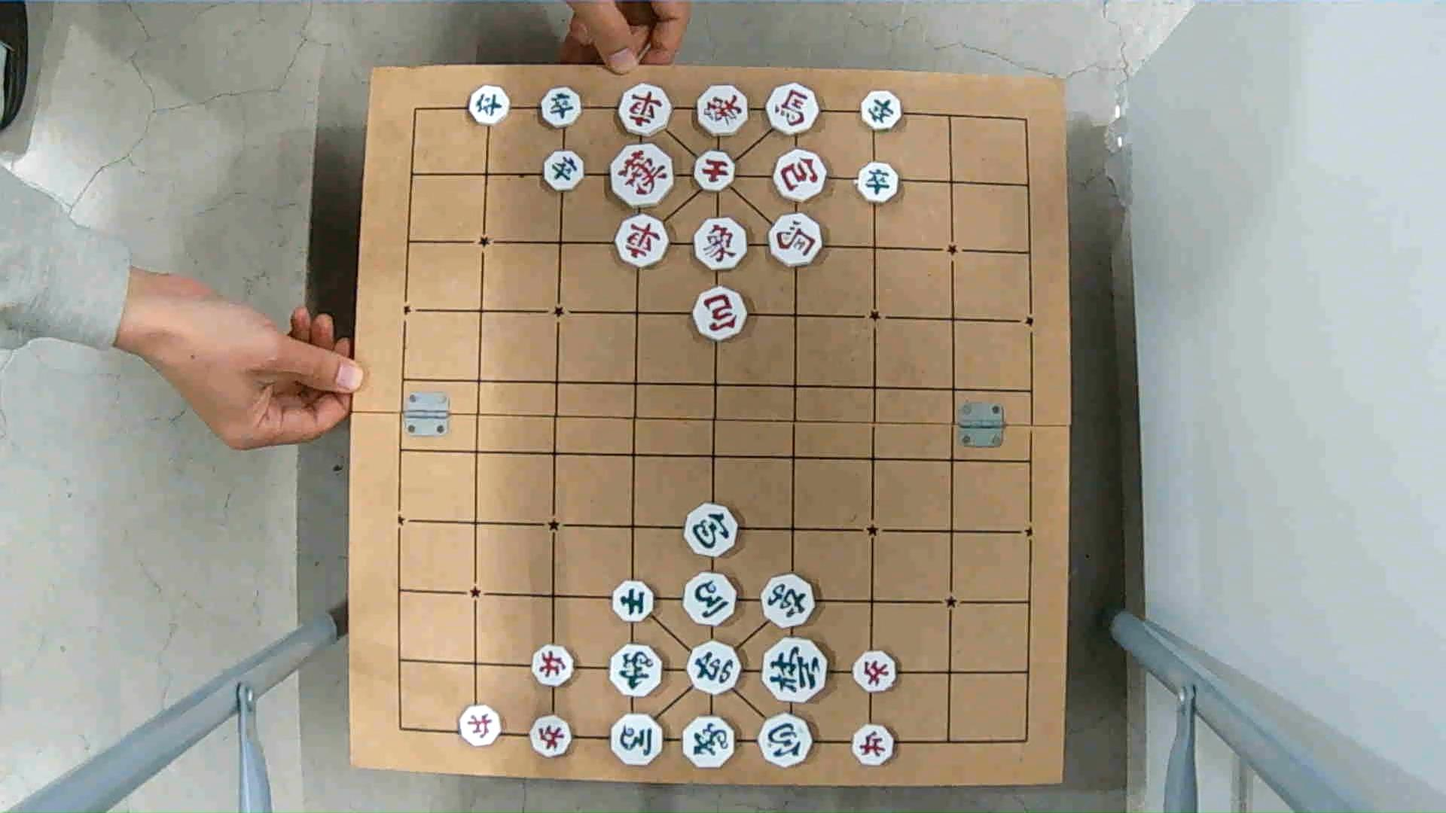cha_green: (763, 575, 820, 626), (685, 644, 741, 693)
cha_red: (613, 214, 673, 271), (620, 89, 673, 137)
jol_green: (536, 87, 580, 126), (857, 164, 902, 202), (542, 153, 585, 191), (860, 91, 902, 129), (470, 87, 513, 123)
jol_red: (850, 648, 896, 696), (853, 724, 898, 763), (534, 643, 575, 685), (458, 706, 502, 745), (532, 715, 572, 755)
ma_green: (682, 573, 738, 624), (612, 716, 668, 766)
ma_red: (767, 85, 822, 134), (771, 215, 826, 264)
po_green: (681, 501, 740, 557), (758, 714, 813, 765)
po_red: (691, 291, 749, 341), (775, 153, 829, 200)
sa_green: (613, 582, 656, 624)
sa_red: (693, 154, 737, 191)
sang_green: (678, 714, 737, 770), (606, 647, 664, 699)
sang_red: (694, 218, 751, 269), (697, 89, 752, 136)
wang_green: (758, 638, 831, 705)
wang_red: (609, 145, 675, 204)
